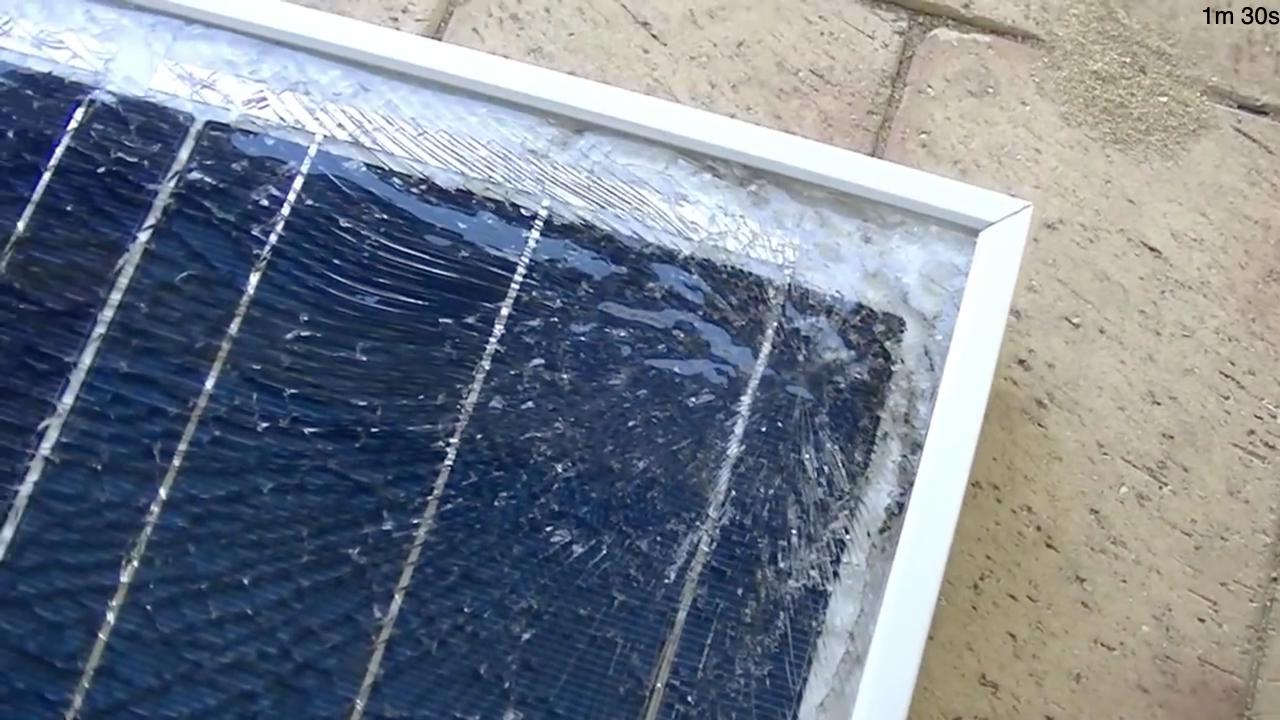Crack: (473, 123, 965, 612)
